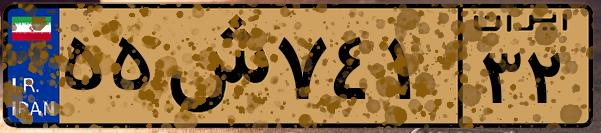1: (385, 28, 445, 110)
2: (525, 38, 570, 115)
3: (475, 38, 525, 113)
4: (330, 28, 385, 110)
5: (57, 26, 110, 100), (110, 28, 158, 98)
7: (270, 28, 330, 110)
ش: (158, 12, 270, 120)
